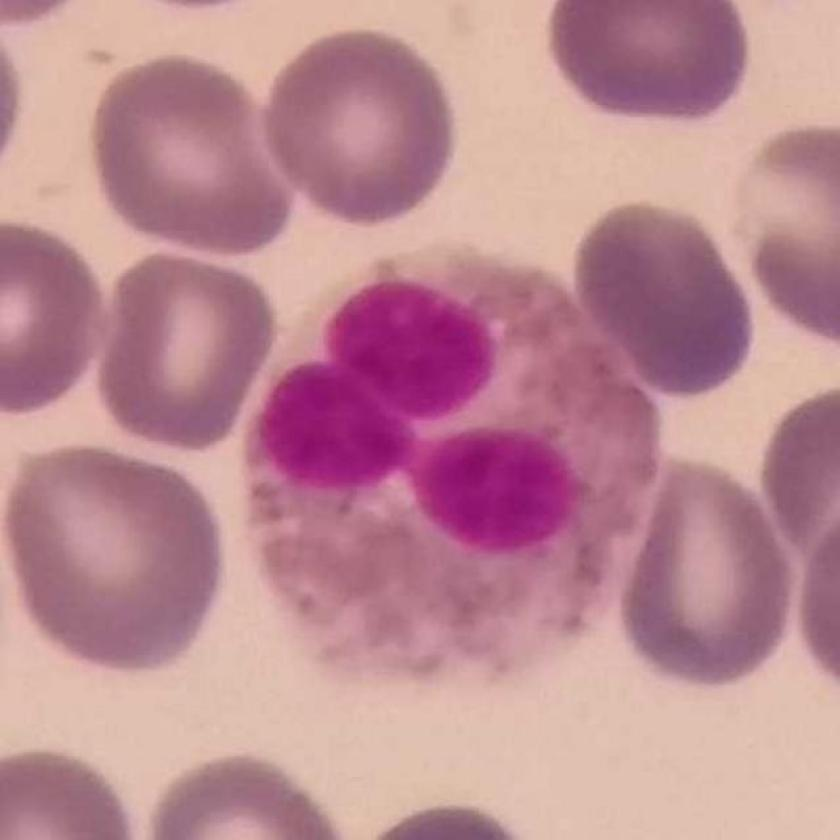eosinophil: (227, 235, 660, 684)
